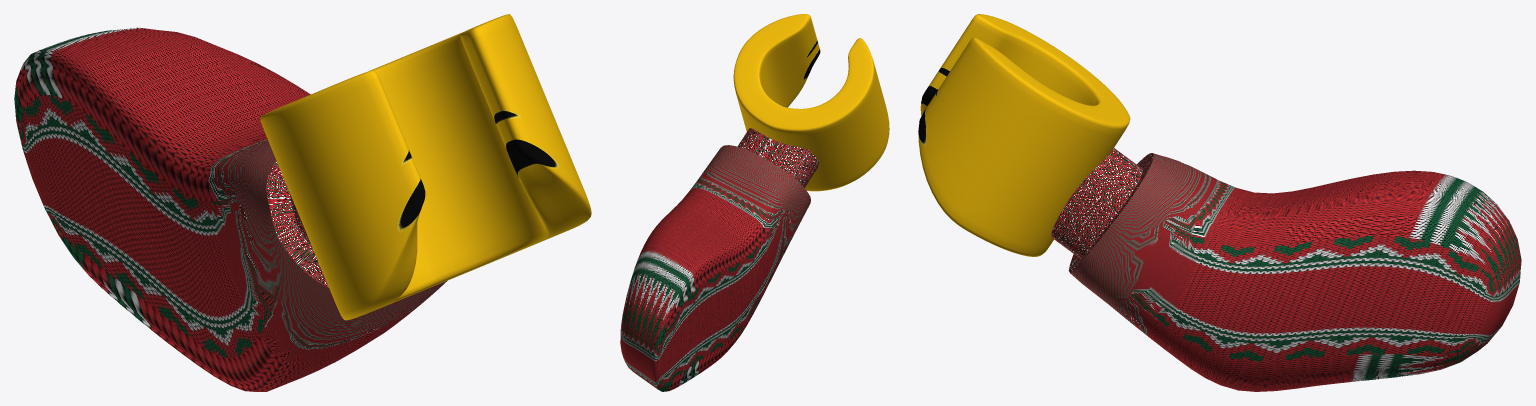
The model's file is BrazoIzqLego.obj.
3 renders of one model, left to right at view 1: azimuth 30°, elevation 25°; view 2: azimuth 150°, elevation 25°; view 3: azimuth 270°, elevation 25°, orthographic. The views are drawn at different scales.
Visible parts, largest first — view 1: BrazoIzqLego:BrazoIzquierdo; view 2: BrazoIzqLego:BrazoIzquierdo; view 3: BrazoIzqLego:BrazoIzquierdo.
Boxes of the visible parts, x1,y1,x2,y2 form: BrazoIzqLego:BrazoIzquierdo: [14, 14, 591, 391]; BrazoIzqLego:BrazoIzquierdo: [620, 14, 889, 391]; BrazoIzqLego:BrazoIzquierdo: [918, 14, 1521, 391].
Bounding box in the file's own units: 0.9074 × 1.65 × 2.49.
Materials: 2 (2 with a texture image).
